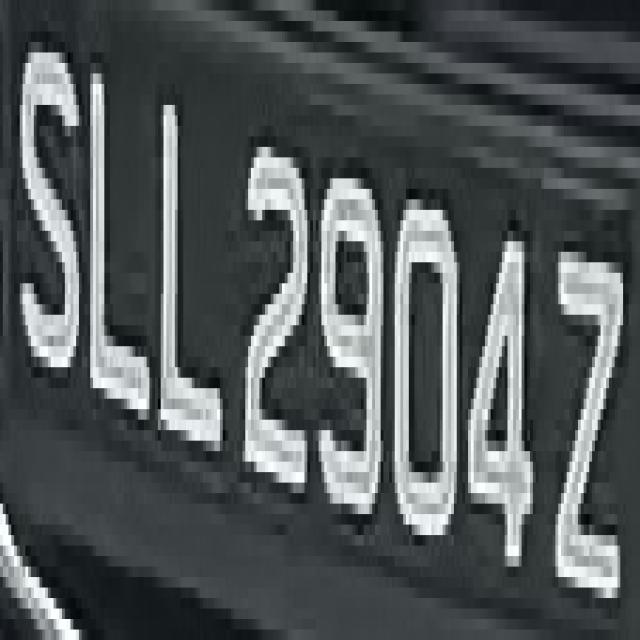0: (386, 136, 474, 566)
2: (240, 115, 313, 577)
4: (468, 200, 536, 588)
9: (322, 126, 384, 535)
L: (152, 84, 231, 483), (82, 42, 146, 451)
S: (11, 11, 82, 409)
Z: (552, 199, 632, 619)
